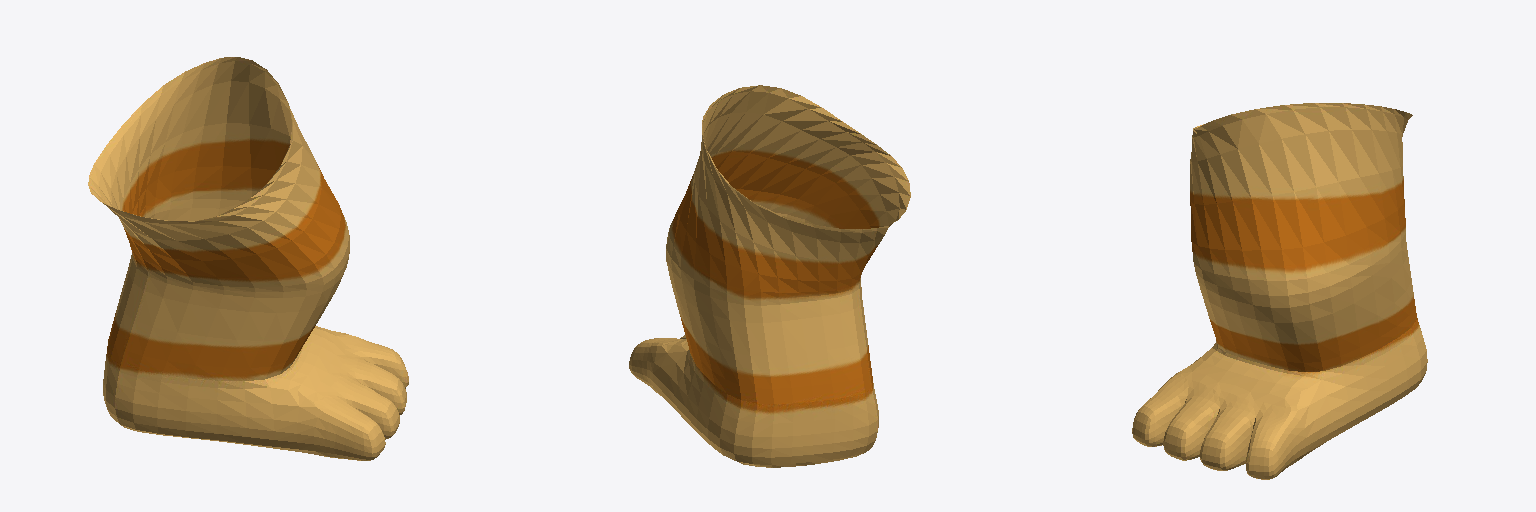
3 views of the same model, side by side, from view 1: azimuth 30°, elevation 25°; view 2: azimuth 150°, elevation 25°; view 3: azimuth 270°, elevation 25° (orthographic).
Visible parts, largest first — view 1: Group20; view 2: Group20; view 3: Group20.
Part boxes in pixels (left/top/right/bottom): Group20: left=88, top=57, right=408, bottom=460; Group20: left=629, top=85, right=910, bottom=467; Group20: left=1132, top=103, right=1427, bottom=479.
Bounding box in the file's own units: 13.4 × 14.89 × 11.94.
Materials: 1 (1 with a texture image).